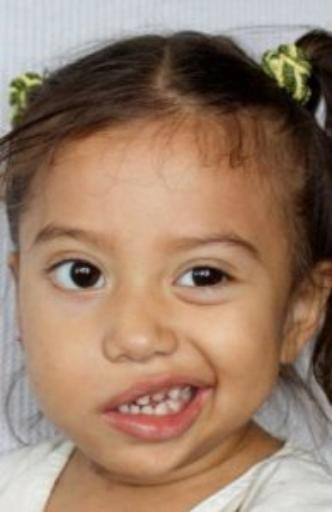left_eye: (169, 264, 244, 296)
left_lip_corner: (205, 370, 221, 398)
right_eye: (40, 259, 109, 298)
right_lip_corner: (95, 398, 112, 425)
